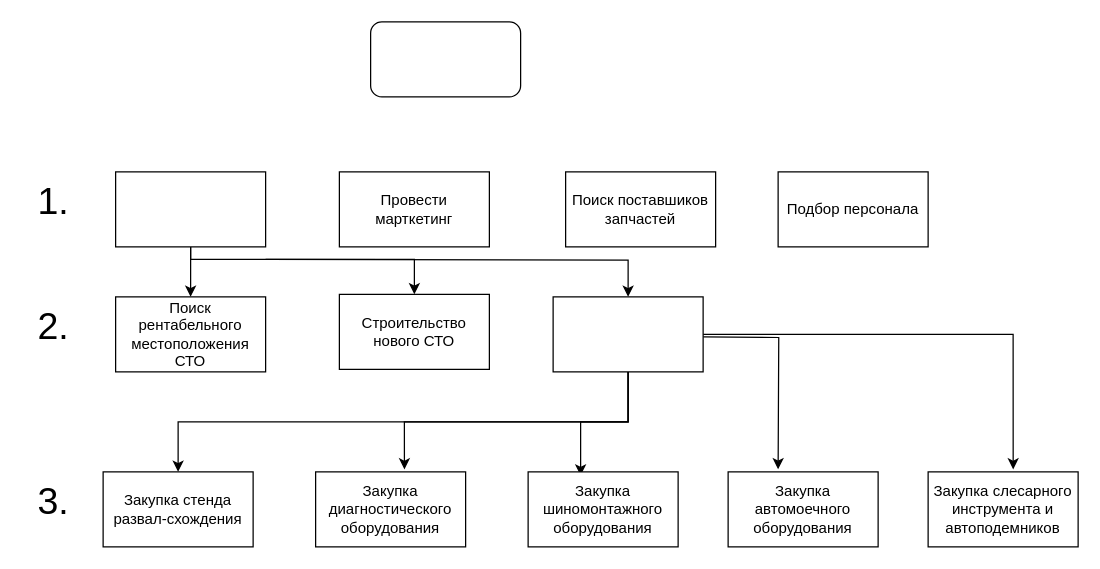
This 1100x569 diagram has some shape labels left out. Each missing label, with the centre of its shape:
"Закупка нового оборудования" belongs at [627,334].
"Открытие нового СТО" belongs at [445,59].
"Проектирование и строительство СТО" belongs at [190,209].
